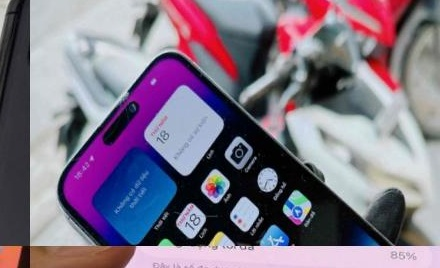physical_damage: (157, 183, 239, 234), (104, 80, 154, 125)
scratch: (3, 0, 30, 19)
